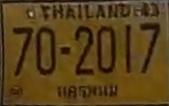0: (35, 26, 55, 74), (96, 25, 115, 72)
1: (124, 24, 130, 72)
2: (74, 25, 92, 74)
7: (139, 22, 159, 72), (12, 26, 32, 75)
NPM: (54, 82, 120, 103)
